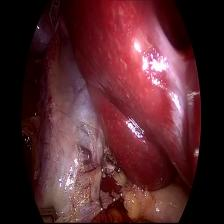Grasper: (35, 202, 59, 224)
